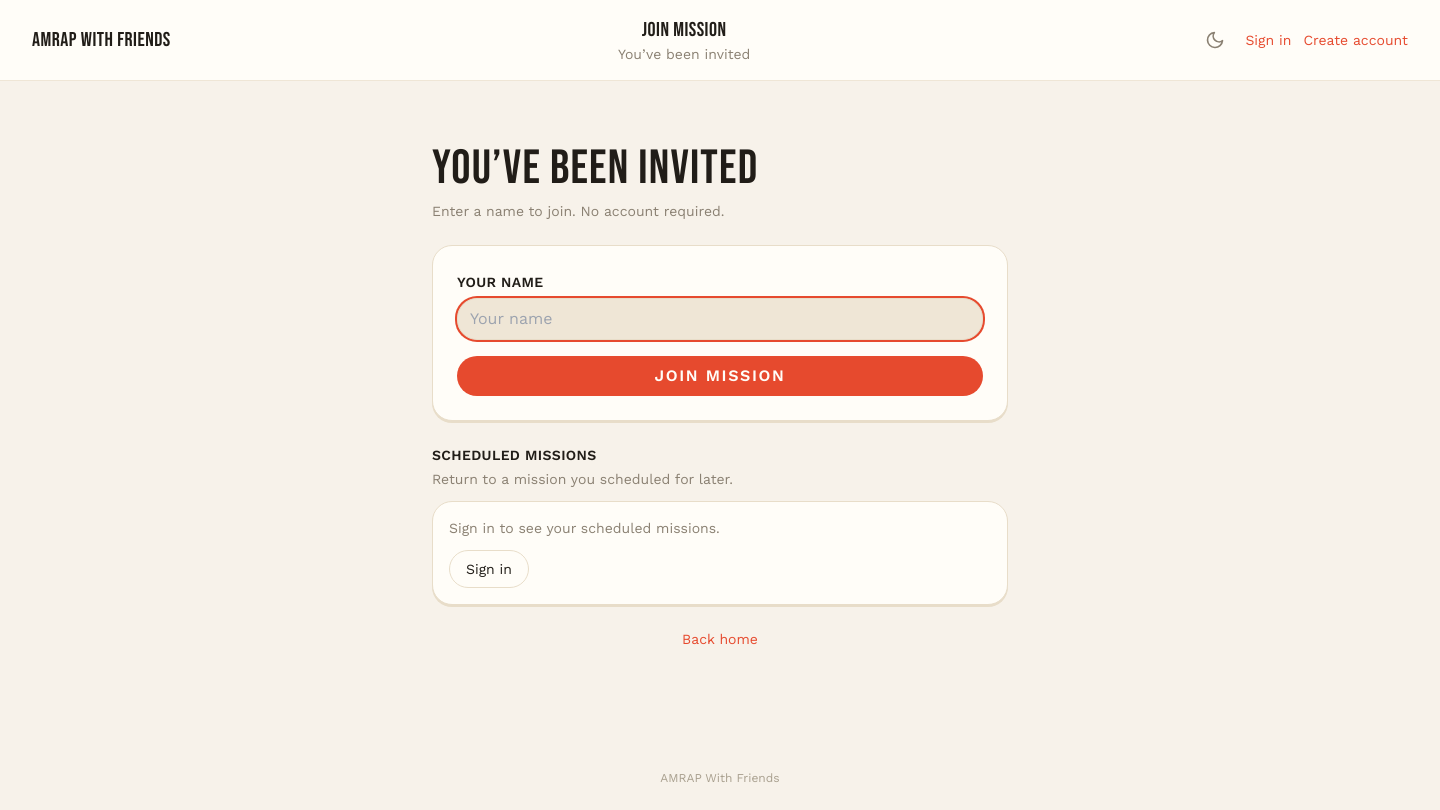
Test case: JoinMissionPage deep link › surfaces departed copy when joinMission reports Mission locked
Type "Late" into the field labelled "Your name" at (720, 319), box [457,298,983,340]
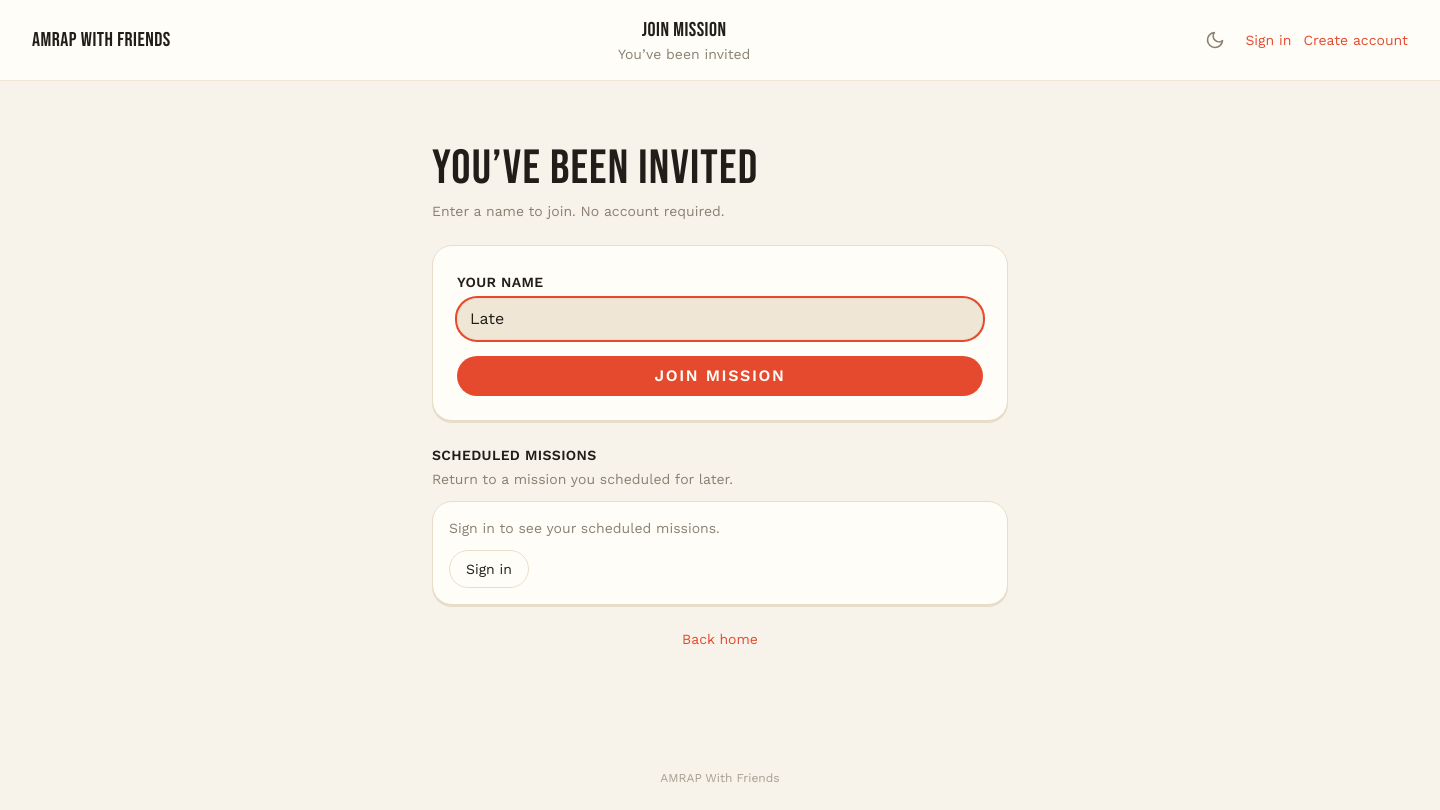
Click the button "Join mission" at (720, 376), box [457,356,983,396]
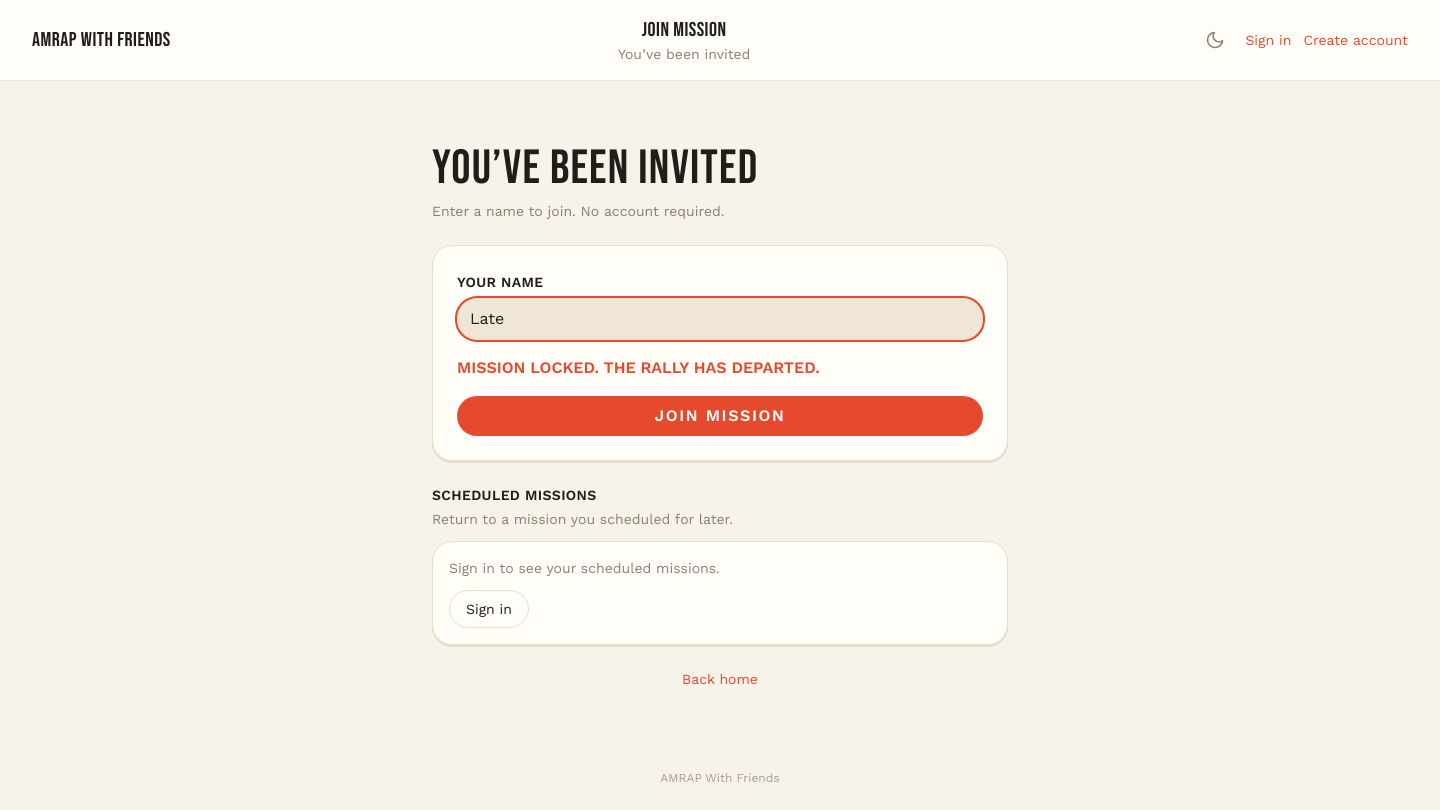
Result: the text "MISSION LOCKED. THE RALLY HAS DEPARTED." is shown at [457,358,820,377]
